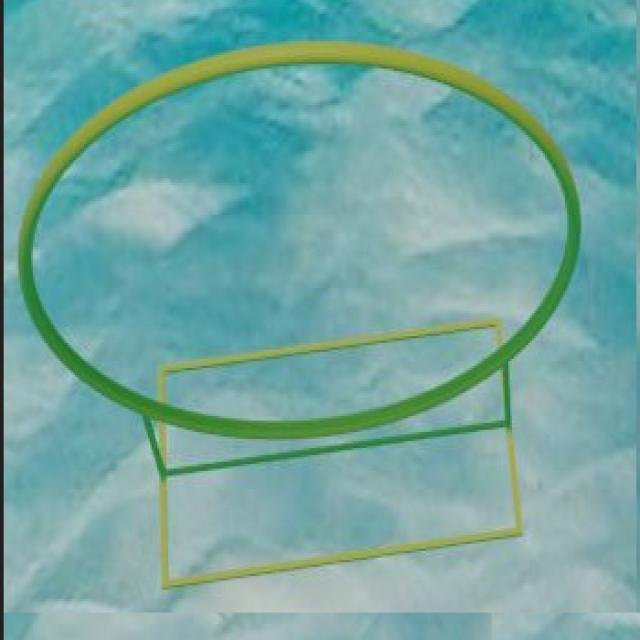Circle: (17, 36, 583, 445)
